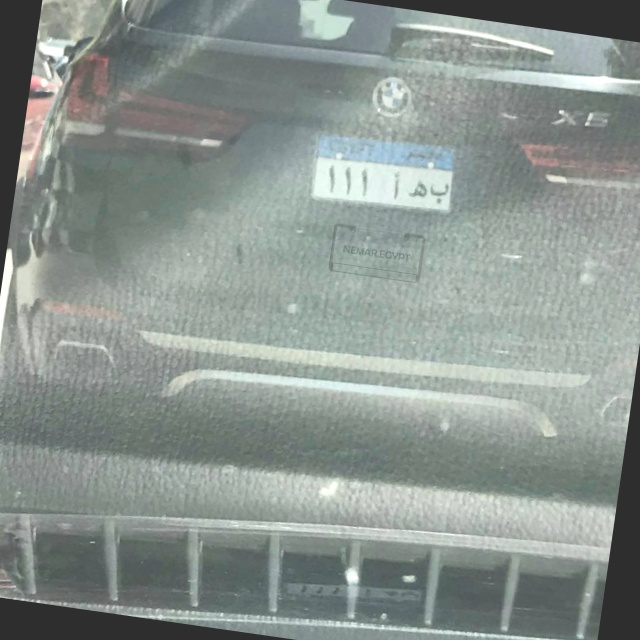License Plate: (305, 122, 463, 222)
